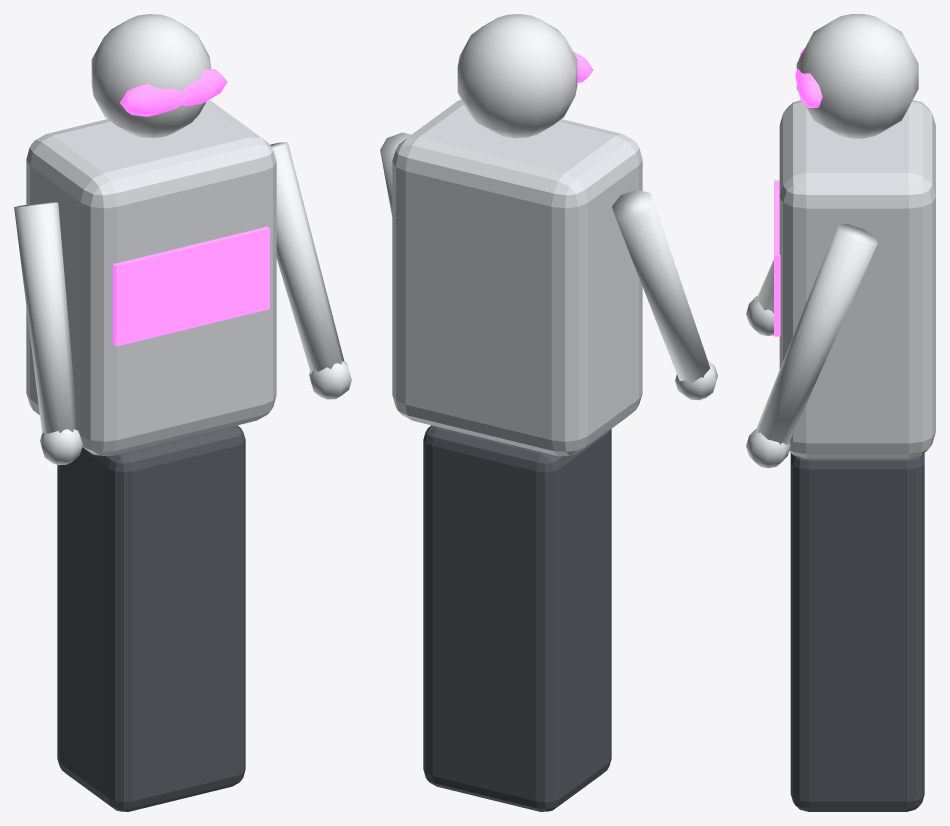
The model's file is android_bartender.glb.
3 views of the same model, side by side, from view 1: azimuth 30°, elevation 25°; view 2: azimuth 150°, elevation 25°; view 3: azimuth 270°, elevation 25° (orthographic).
Parts seen in each view (by area): view 1: GD_android_bartender__m1, GD_android_bartender__m0, GD_android_bartender__m2, GD_android_bartender__m3; view 2: GD_android_bartender__m0, GD_android_bartender__m1, GD_android_bartender__m2; view 3: GD_android_bartender__m1, GD_android_bartender__m0, GD_android_bartender__m2, GD_android_bartender__m3.
Part boxes in pixels (x1,y1,x2,y2): GD_android_bartender__m1: [57, 425, 245, 811]; GD_android_bartender__m0: [26, 100, 276, 456]; GD_android_bartender__m2: [14, 14, 351, 465]; GD_android_bartender__m3: [113, 69, 269, 346]; GD_android_bartender__m0: [392, 99, 642, 456]; GD_android_bartender__m1: [423, 425, 611, 811]; GD_android_bartender__m2: [380, 14, 717, 400]; GD_android_bartender__m1: [790, 453, 924, 811]; GD_android_bartender__m0: [779, 100, 935, 458]; GD_android_bartender__m2: [746, 14, 918, 468]; GD_android_bartender__m3: [774, 48, 822, 336].
Bounding box in the file's own units: 0.8 × 1.89 × 0.425.
